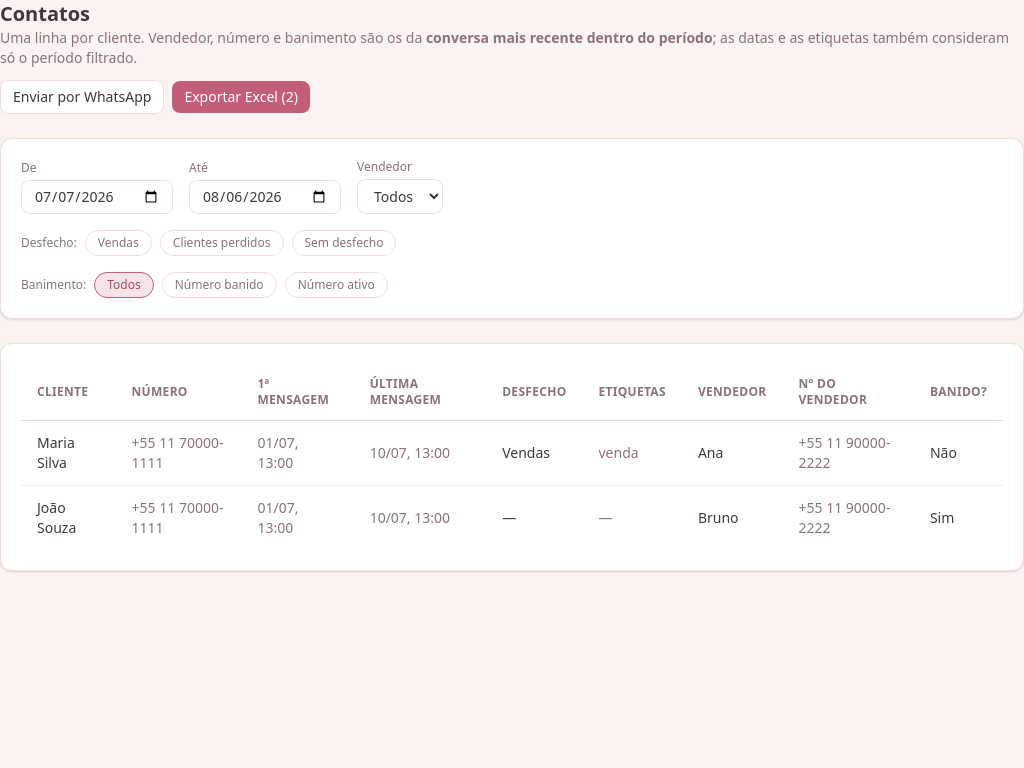
Test: ContactsPage › envia a lista por WhatsApp e acompanha o progresso
The image size is (1024, 768).
Expected: the table with test id "contacts-table" is shown, left=21, top=364, right=1003, bottom=550
Click the button "Enviar por WhatsApp" at (82, 97), box left=0, top=80, right=164, bottom=114
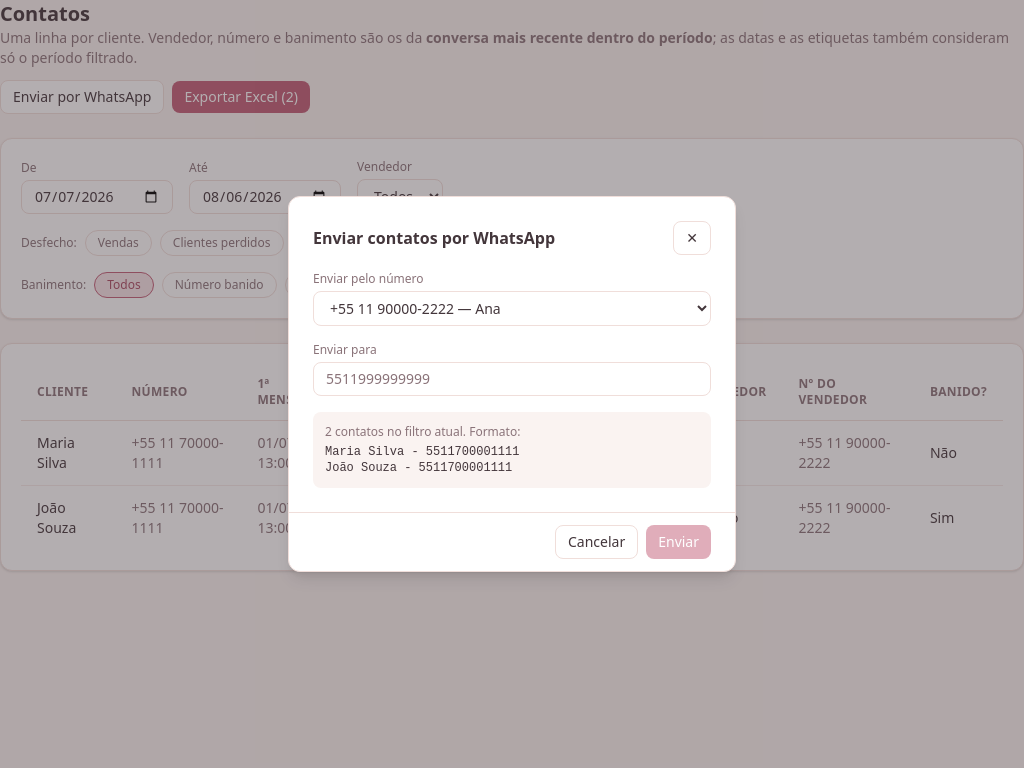
Type "5511777770000" into the field labelled "Enviar para" at (512, 379), box left=313, top=362, right=711, bottom=396
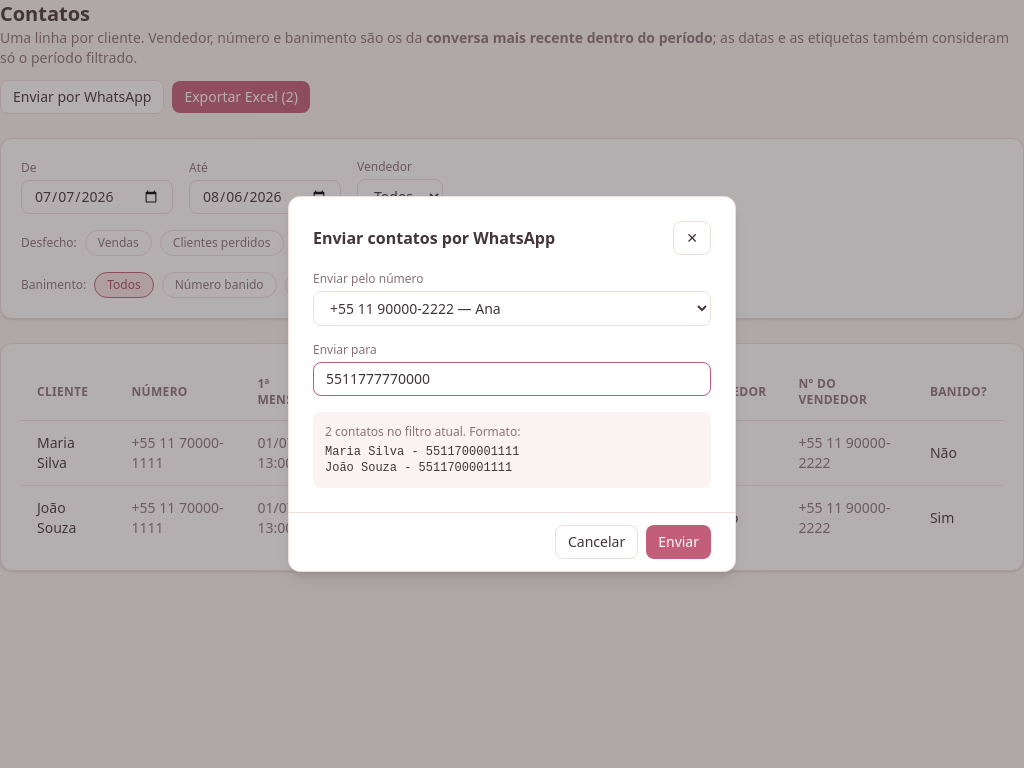
Click the button "Enviar" at (679, 542), box left=646, top=525, right=711, bottom=559
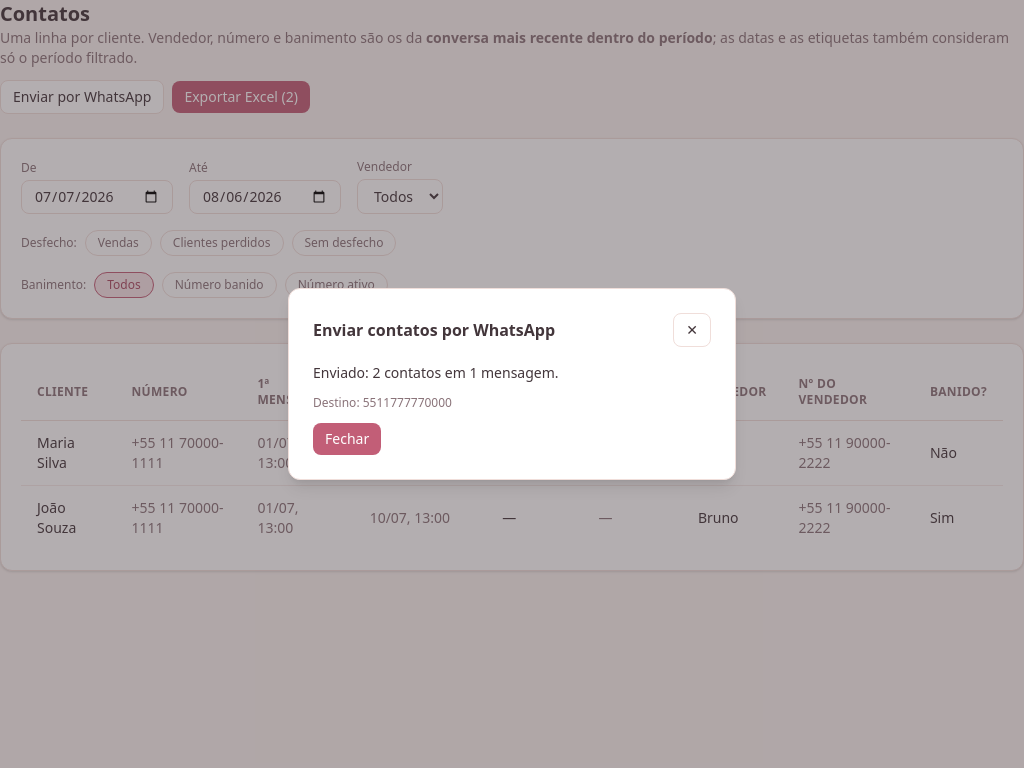
Expected: the text "Enviado: 2 contatos em 1 mensagem." is shown, left=313, top=363, right=559, bottom=382
